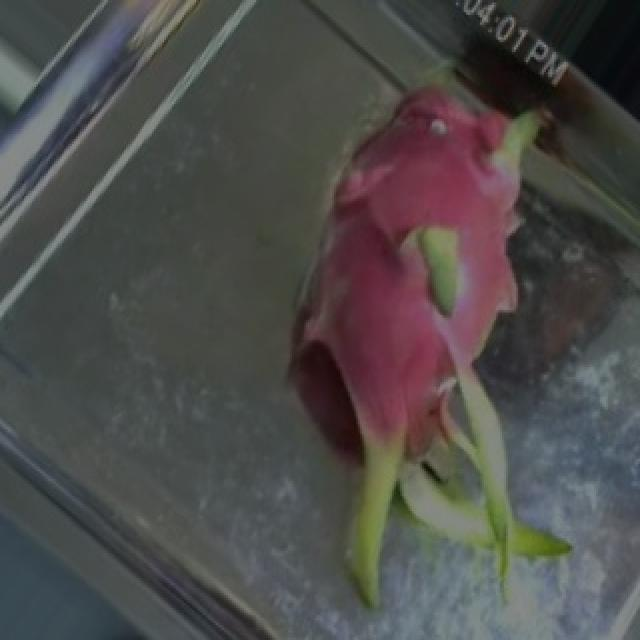fruit: (212, 5, 636, 429), (224, 228, 640, 638)
